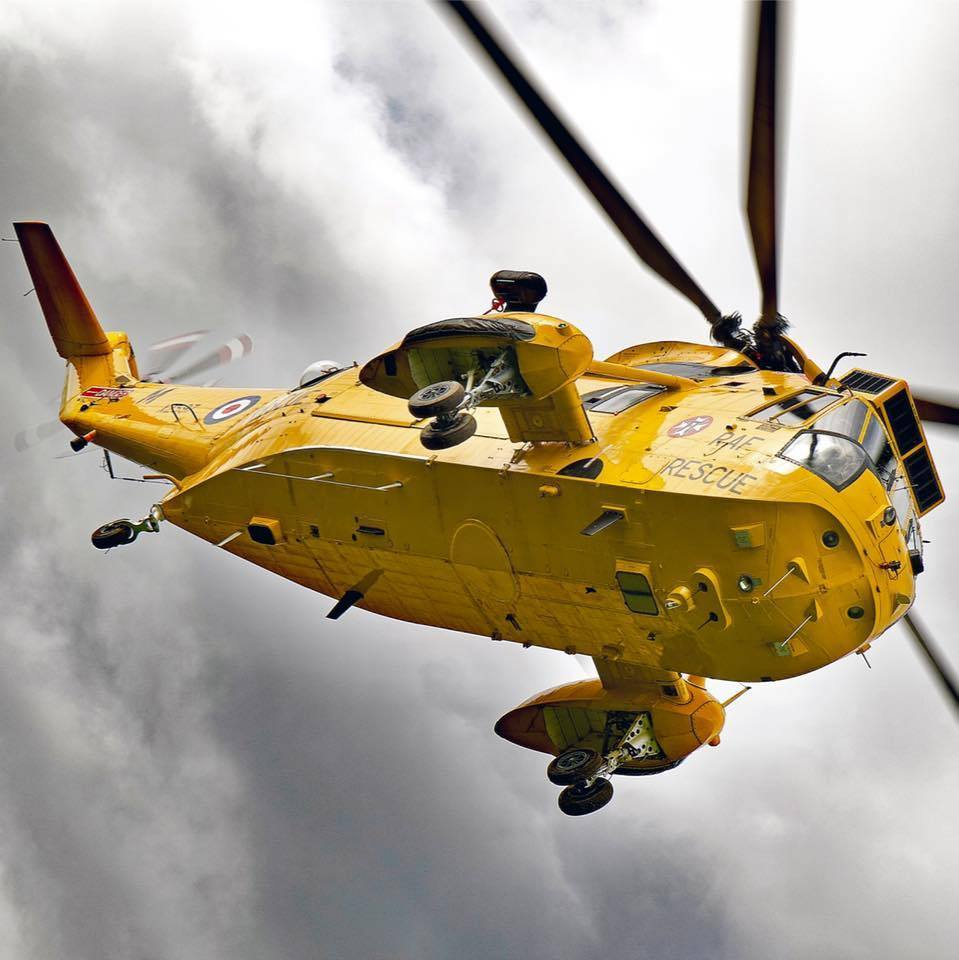Sea King: (9, 208, 959, 824)
